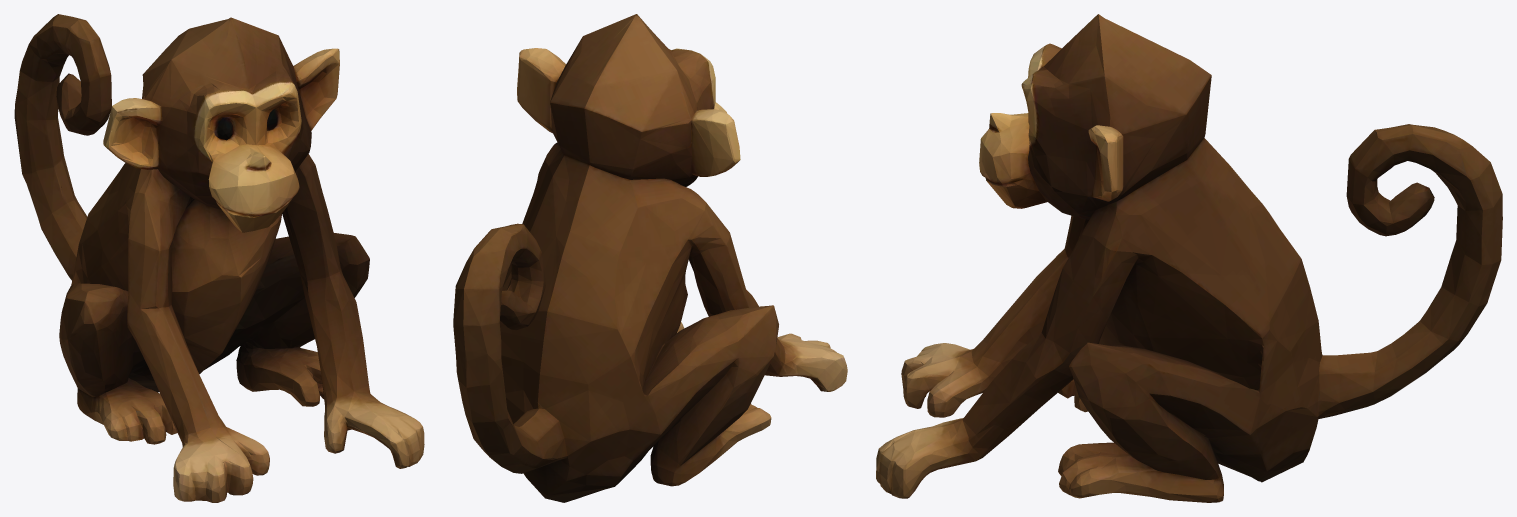
File: monkey.glb
3 views of the same model, side by side, from view 1: azimuth 30°, elevation 25°; view 2: azimuth 150°, elevation 25°; view 3: azimuth 270°, elevation 25° (orthographic). The views are drawn at different scales.
Parts seen in each view (by area): view 1: world; view 2: world; view 3: world.
Boxes of the visible parts, left/top/right/bottom form: world: left=14, top=14, right=424, bottom=502; world: left=453, top=14, right=847, bottom=502; world: left=876, top=14, right=1502, bottom=502.
Bounding box in the file's own units: 0.5731 × 0.8267 × 0.999.
Materials: 1 (1 with a texture image).
